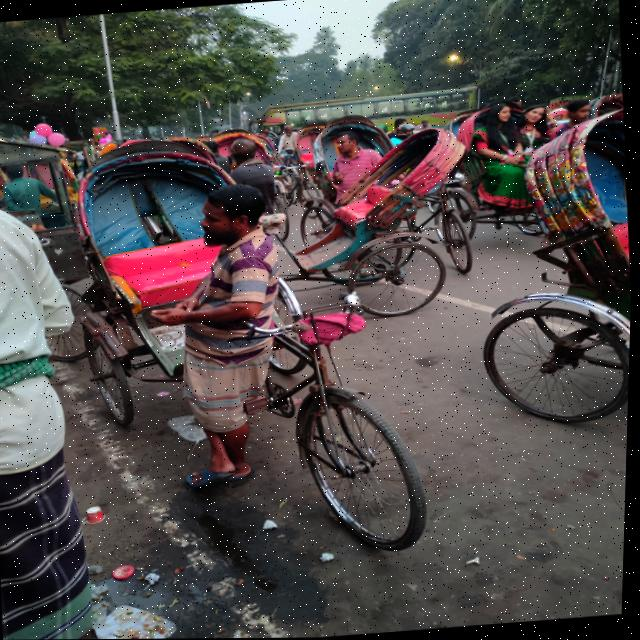rikshaw: (21, 138, 443, 561), (208, 132, 476, 315)
